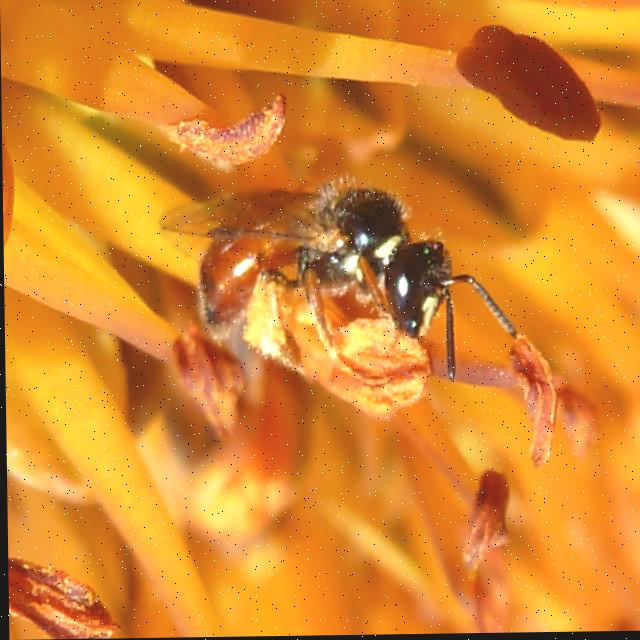Allodapula: (149, 159, 537, 397)
